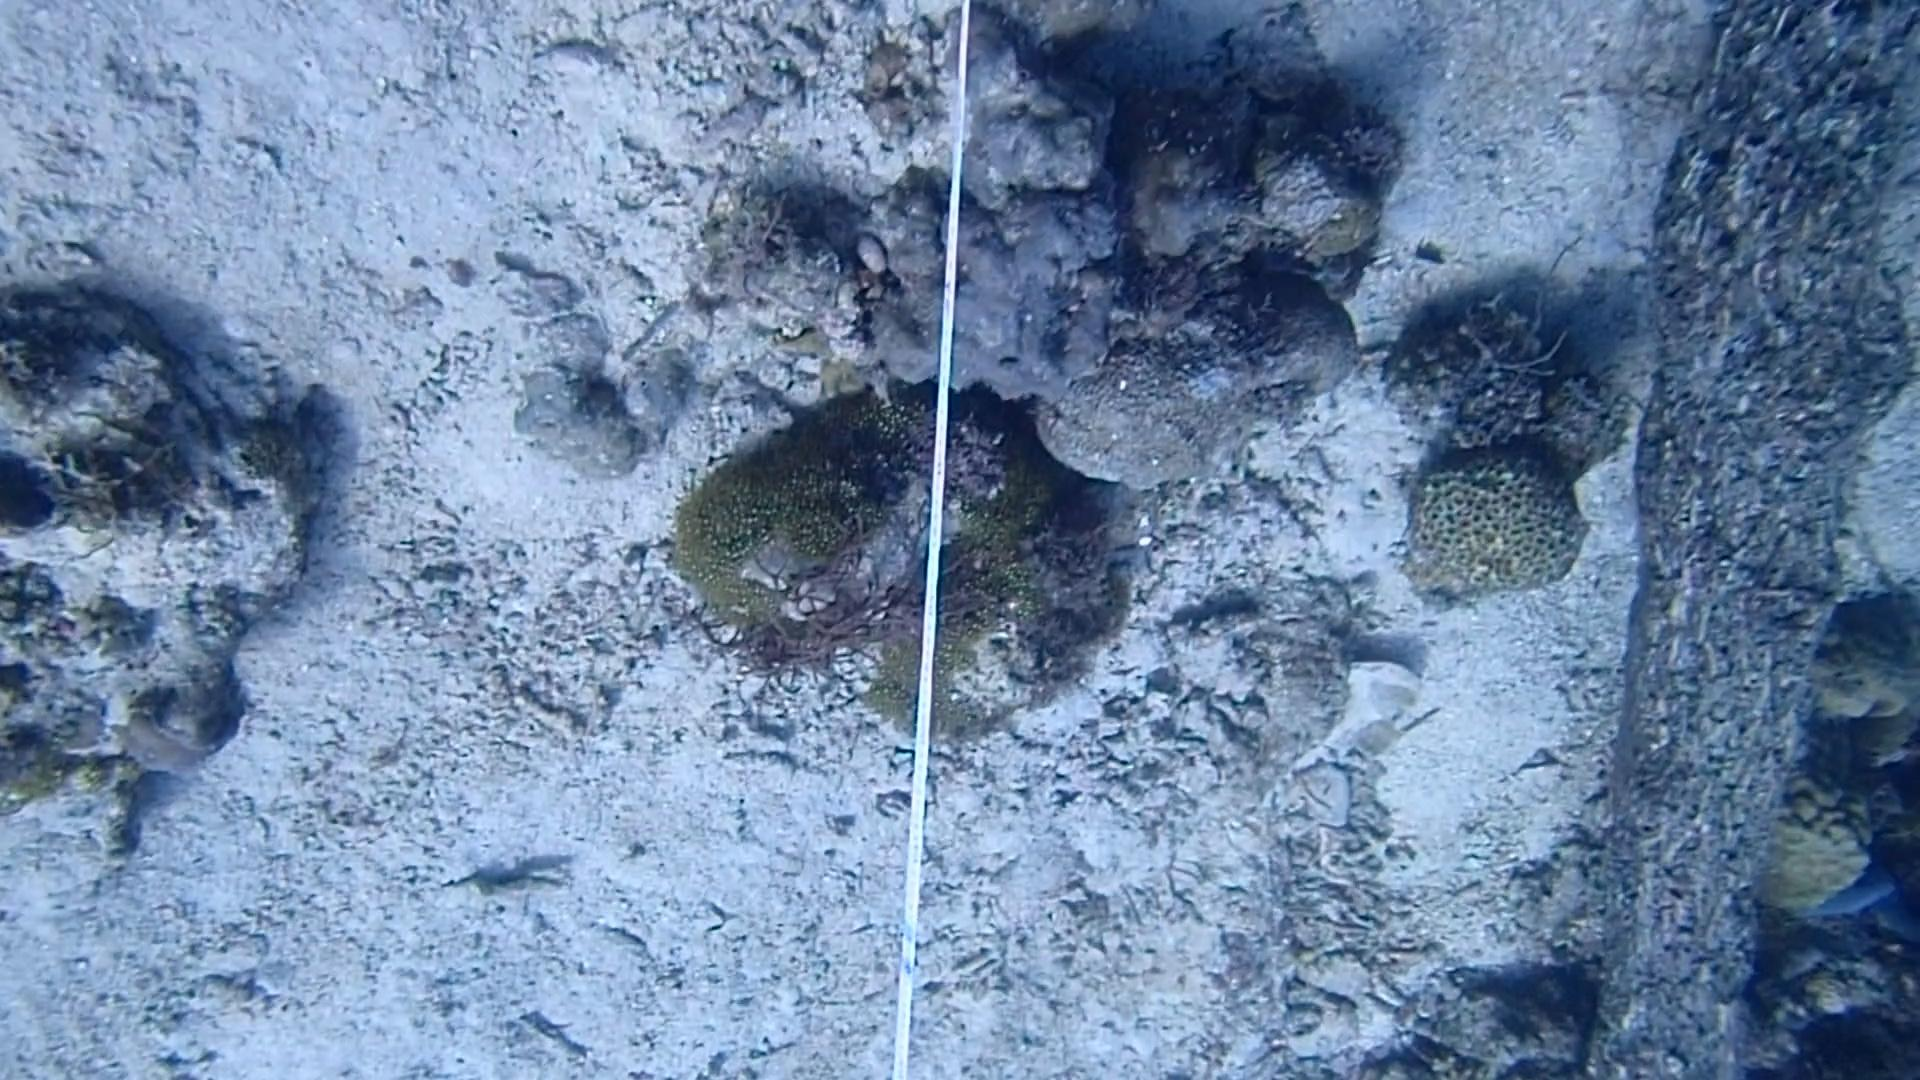UI: (1407, 224, 1460, 277)
